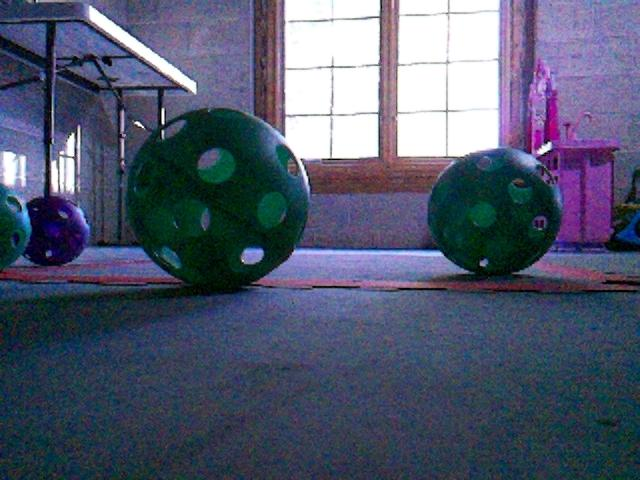Green: (125, 107, 311, 288), (424, 147, 562, 274), (1, 183, 30, 274)
Purple: (20, 196, 90, 266)
